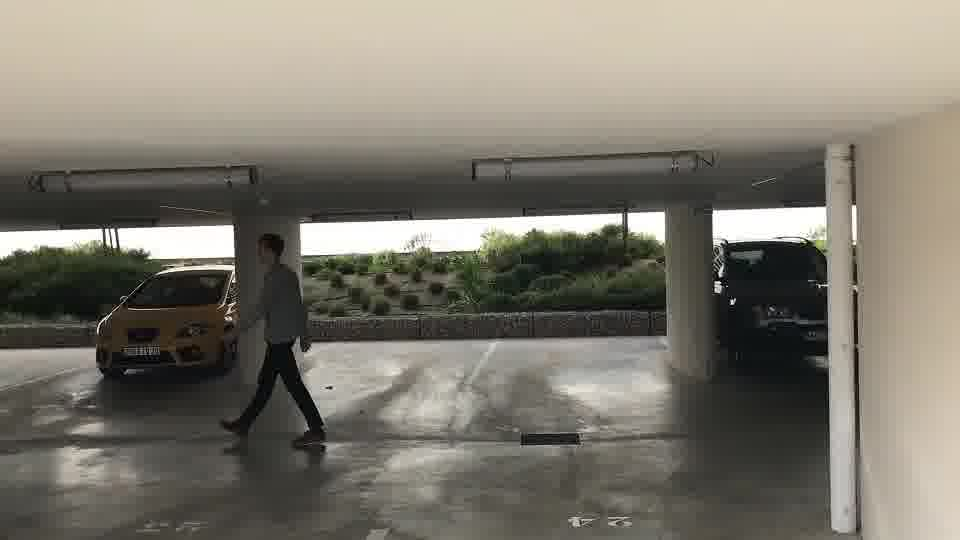jugador: (212, 228, 331, 451)
